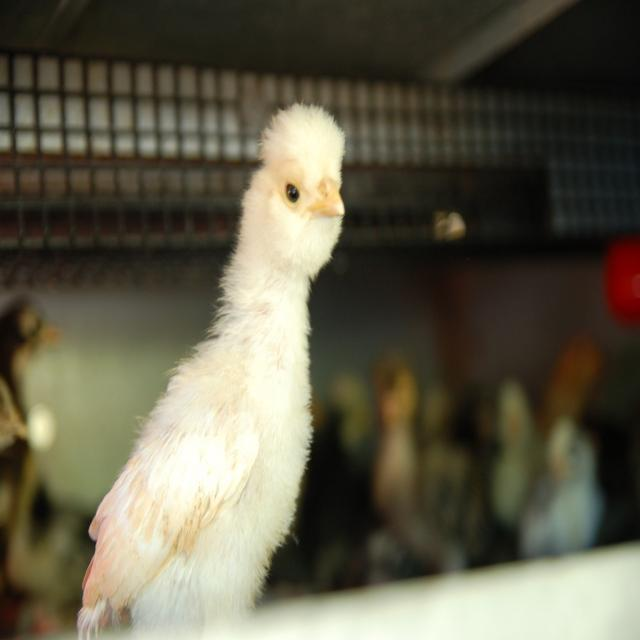Chicken: (71, 102, 343, 640)
